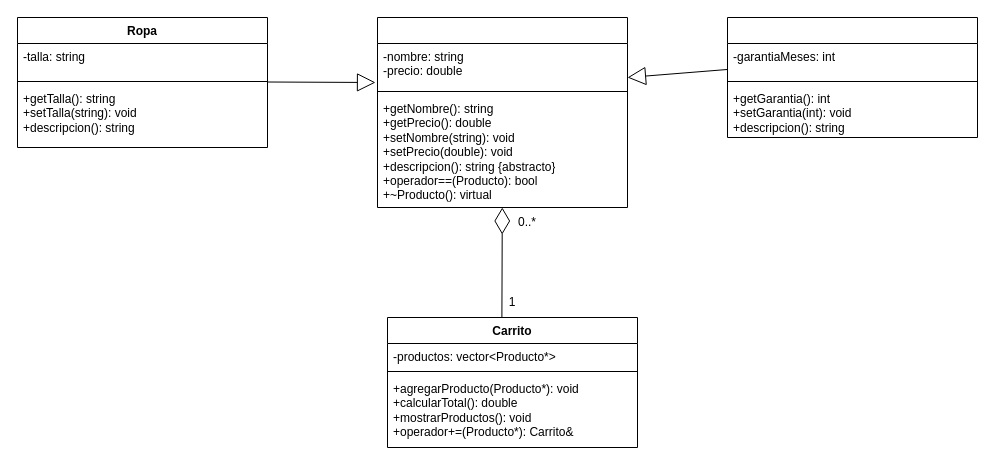
This 995x468 diagram has some shape labels left out. The box of each missing label's shape, as (x1, y1, x2, y2) in pixels:
Electronico: (726, 16, 978, 138)
Producto <abstracta>: (376, 16, 628, 208)
